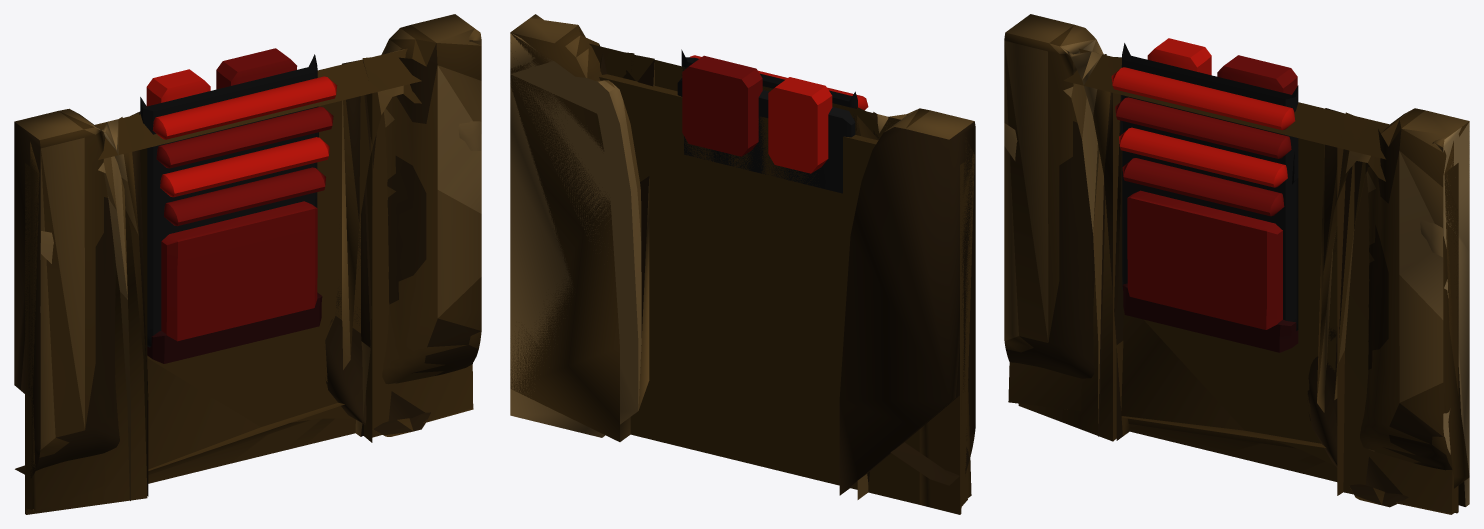
The model's file is ixm_wall_slot_low.glb.
3 renders of one model, left to right at view 1: azimuth 30°, elevation 25°; view 2: azimuth 150°, elevation 25°; view 3: azimuth 330°, elevation 25°, orthographic.
Parts seen in each view (by area): view 1: ixm_wall_slot_low_rock_back_slot, ixm_wall_slot_low_rock_rock, ixm_wall_slot_low_rock_end_l, ixm_wall_slot_low_foot, ixm_wall_slot_low_rock_slot, ixm_wall_slot_low_rock_back_end_l, ixm_wall_slot_low_rock_back_rock, ixm_wall_slot_low_well, ixm_wall_slot_low_grille0, ixm_wall_slot_low_grille1, ixm_wall_slot_low_grille2, ixm_wall_slot_low_grille3 (+3 smaller); view 2: ixm_wall_slot_low_rock_back_slot, ixm_wall_slot_low_rock_end_l, ixm_wall_slot_low_rock_slot, ixm_wall_slot_low_rock_rock, ixm_wall_slot_low_bar_r, ixm_wall_slot_low_rock_back_end_l, ixm_wall_slot_low_bar_l, ixm_wall_slot_low_well, ixm_wall_slot_low_rock_back_rock; view 3: ixm_wall_slot_low_rock_back_slot, ixm_wall_slot_low_rock_end_l, ixm_wall_slot_low_rock_rock, ixm_wall_slot_low_foot, ixm_wall_slot_low_rock_slot, ixm_wall_slot_low_rock_back_rock, ixm_wall_slot_low_well, ixm_wall_slot_low_rock_back_end_l, ixm_wall_slot_low_grille0, ixm_wall_slot_low_grille1, ixm_wall_slot_low_grille2, ixm_wall_slot_low_grille3 (+3 smaller).
Part boxes in pixels (bbox=[...]): ixm_wall_slot_low_rock_back_slot: bbox=[25, 54, 426, 511]; ixm_wall_slot_low_rock_rock: bbox=[355, 14, 481, 436]; ixm_wall_slot_low_rock_end_l: bbox=[14, 108, 148, 496]; ixm_wall_slot_low_foot: bbox=[161, 201, 317, 341]; ixm_wall_slot_low_rock_slot: bbox=[15, 28, 481, 500]; ixm_wall_slot_low_rock_back_end_l: bbox=[25, 113, 147, 514]; ixm_wall_slot_low_rock_back_rock: bbox=[362, 48, 473, 442]; ixm_wall_slot_low_well: bbox=[140, 54, 318, 347]; ixm_wall_slot_low_grille0: bbox=[152, 76, 337, 139]; ixm_wall_slot_low_grille1: bbox=[156, 106, 333, 168]; ixm_wall_slot_low_grille2: bbox=[160, 137, 329, 197]; ixm_wall_slot_low_grille3: bbox=[164, 167, 325, 226]; ixm_wall_slot_low_rock_back_slot: bbox=[599, 50, 973, 511]; ixm_wall_slot_low_rock_end_l: bbox=[839, 106, 975, 495]; ixm_wall_slot_low_rock_slot: bbox=[510, 14, 959, 499]; ixm_wall_slot_low_rock_rock: bbox=[510, 18, 635, 441]; ixm_wall_slot_low_bar_r: bbox=[682, 55, 762, 156]; ixm_wall_slot_low_rock_back_end_l: bbox=[856, 108, 974, 514]; ixm_wall_slot_low_bar_l: bbox=[768, 77, 832, 173]; ixm_wall_slot_low_well: bbox=[677, 49, 857, 193]; ixm_wall_slot_low_rock_back_rock: bbox=[601, 50, 634, 81]; ixm_wall_slot_low_rock_back_slot: bbox=[1008, 63, 1458, 513]; ixm_wall_slot_low_rock_end_l: bbox=[1004, 14, 1129, 440]; ixm_wall_slot_low_rock_rock: bbox=[1334, 108, 1469, 488]; ixm_wall_slot_low_foot: bbox=[1127, 190, 1282, 329]; ixm_wall_slot_low_rock_slot: bbox=[1004, 54, 1469, 507]; ixm_wall_slot_low_rock_back_rock: bbox=[1337, 112, 1458, 514]; ixm_wall_slot_low_well: bbox=[1120, 43, 1298, 330]; ixm_wall_slot_low_rock_back_end_l: bbox=[1018, 48, 1121, 441]; ixm_wall_slot_low_grille0: bbox=[1111, 67, 1295, 130]; ixm_wall_slot_low_grille1: bbox=[1115, 97, 1291, 158]; ixm_wall_slot_low_grille2: bbox=[1119, 127, 1287, 187]; ixm_wall_slot_low_grille3: bbox=[1122, 158, 1284, 216].
Bounding box in the file's own units: 24 × 20.52 × 3.35.
